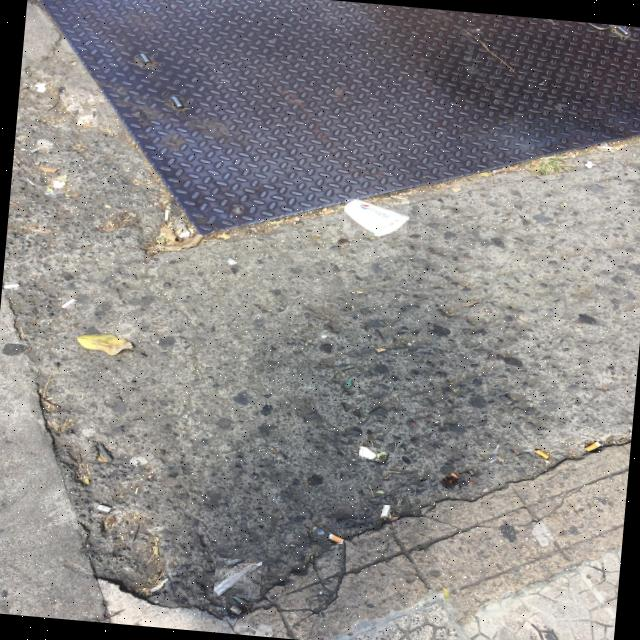Cigarette: (584, 441, 601, 452), (327, 535, 344, 543), (535, 450, 549, 459), (62, 299, 75, 308), (381, 505, 390, 517), (4, 283, 18, 288), (164, 210, 169, 220)
Other plastic bottle: (213, 561, 262, 595), (221, 587, 247, 604)
Paper cup: (344, 199, 407, 236)
Unlabeled litter: (359, 446, 375, 459)
